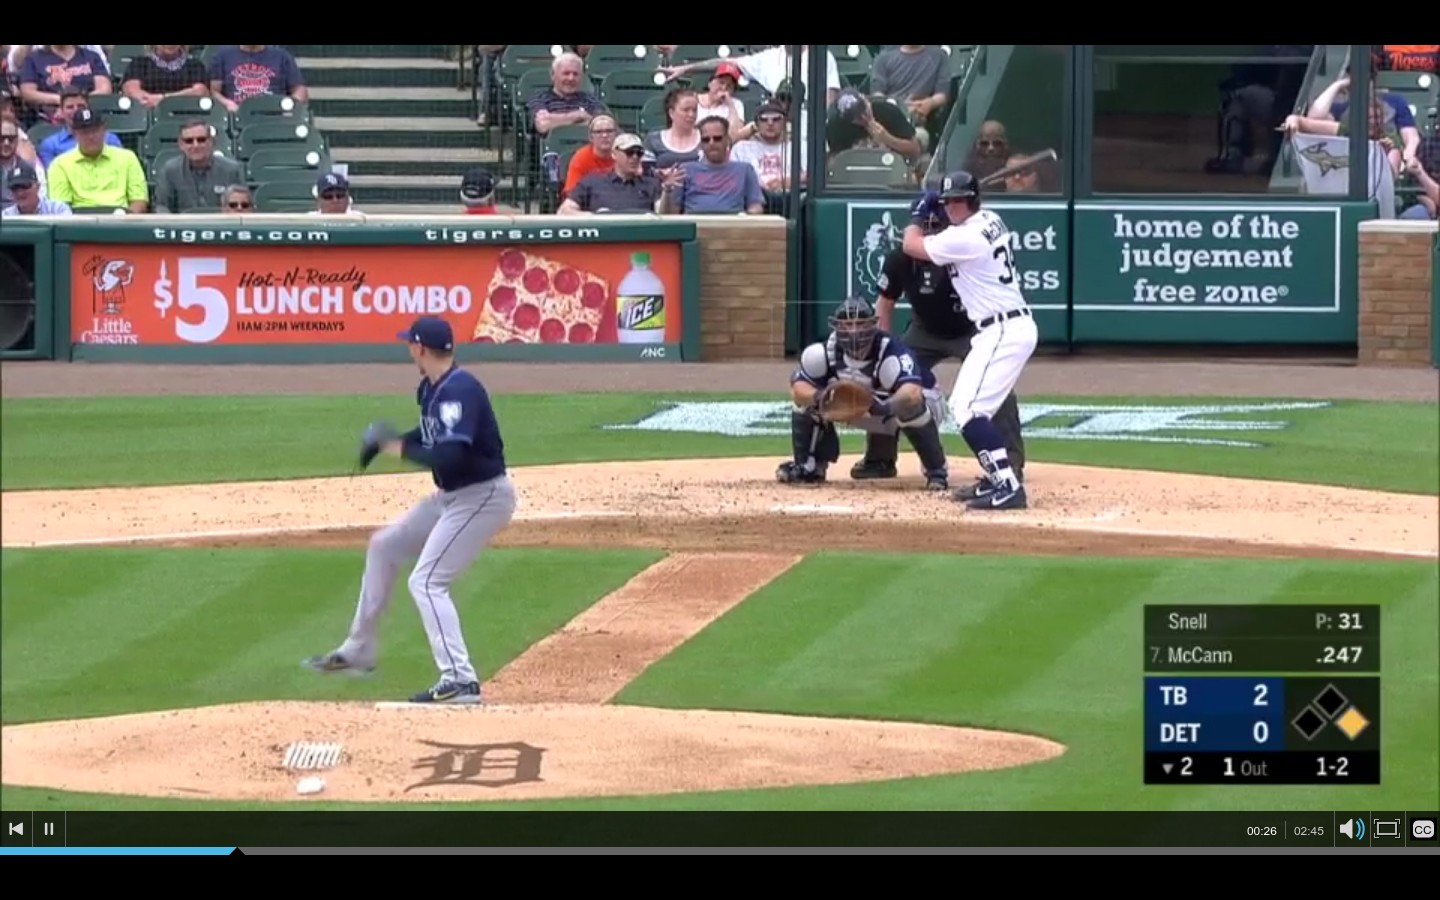baseball bat: (973, 151, 1056, 194)
baseball player: (315, 309, 524, 709), (904, 172, 1038, 511), (776, 303, 942, 492)
referee: (868, 191, 1027, 499)
